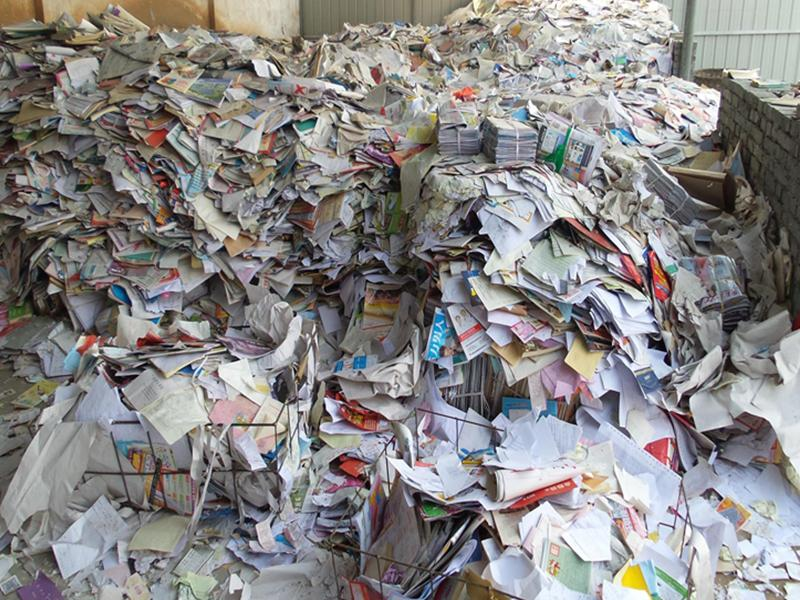paper: (2, 1, 800, 599), (472, 416, 590, 515), (117, 359, 215, 448), (477, 113, 544, 176)
